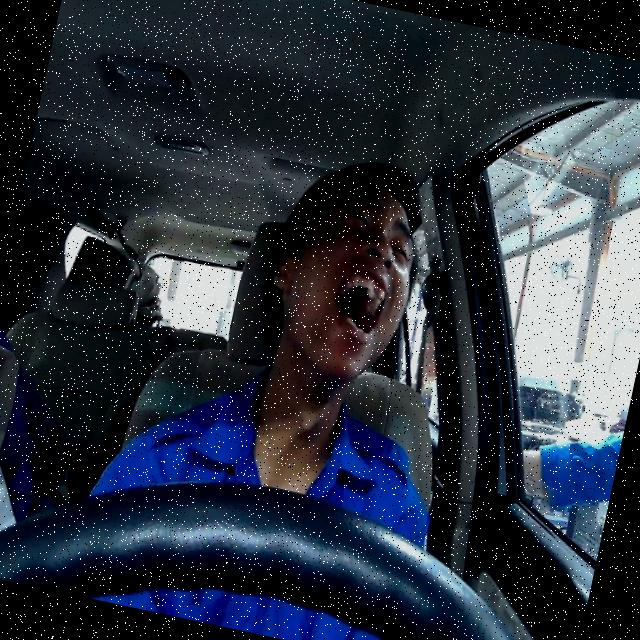yarning: (253, 170, 430, 392)
